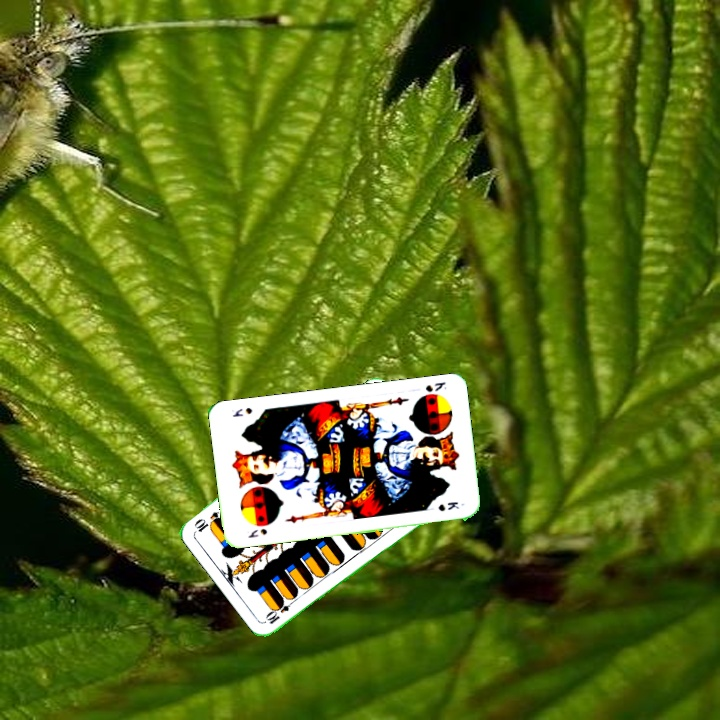E10: (262, 594, 298, 627)
SK: (421, 378, 449, 394), (244, 525, 270, 540)
